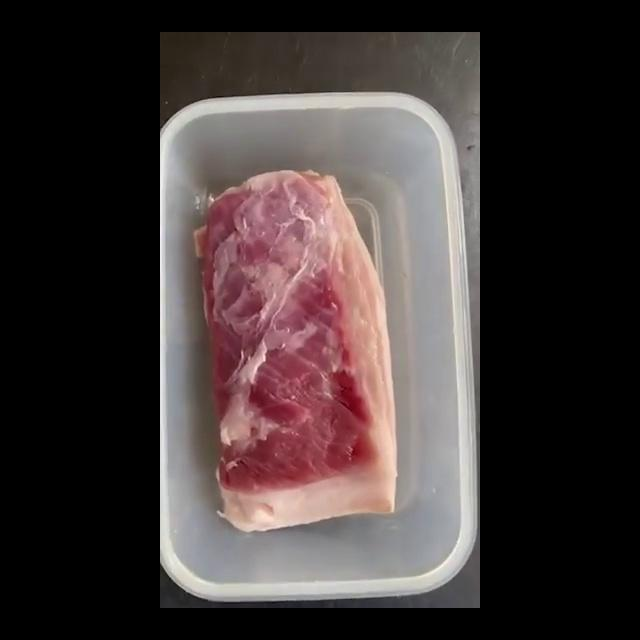pork: (191, 169, 400, 527), (160, 32, 162, 34)
